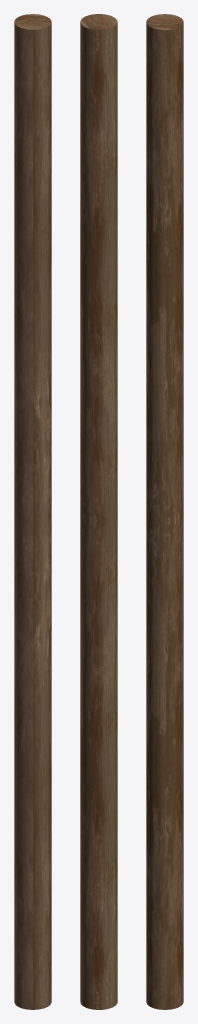
File: changgun.FBX
The picture shows the model from 3 angles, left to right: view 1: azimuth 90°, elevation 25°; view 2: azimuth 210°, elevation 25°; view 3: azimuth 270°, elevation 25°; orthographic projection.
Parts seen in each view (by area): view 1: changgun; view 2: changgun; view 3: changgun.
Part boxes in pixels (x1,y1,x2,y2): changgun: [14, 14, 51, 1009]; changgun: [80, 14, 117, 1009]; changgun: [146, 14, 183, 1009].
Size of the model in its own units: 4.87 by 141 by 4.87.
